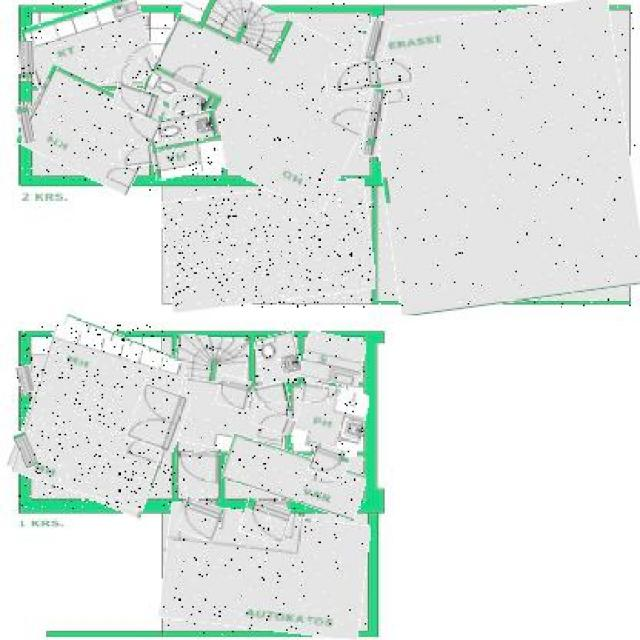door: (129, 386, 188, 449), (326, 58, 412, 94), (242, 500, 289, 542), (177, 500, 221, 540), (112, 86, 163, 117), (176, 454, 222, 484), (311, 443, 349, 479), (217, 375, 252, 408), (112, 62, 154, 86), (252, 410, 294, 432), (252, 383, 290, 405), (120, 146, 152, 168), (300, 383, 329, 405), (171, 94, 200, 114)
window: (363, 89, 386, 157), (365, 18, 389, 60), (15, 432, 36, 468), (15, 40, 36, 74), (18, 105, 34, 143), (17, 366, 34, 392)
zone: (371, 5, 637, 309), (140, 0, 378, 194), (19, 325, 186, 509), (21, 332, 177, 505), (162, 508, 368, 635), (163, 185, 374, 308), (21, 76, 157, 184), (25, 0, 152, 91), (222, 445, 364, 509), (180, 381, 288, 454), (294, 384, 366, 454), (148, 112, 225, 177), (176, 336, 250, 384), (303, 334, 365, 386), (256, 332, 302, 385), (181, 451, 217, 500)
